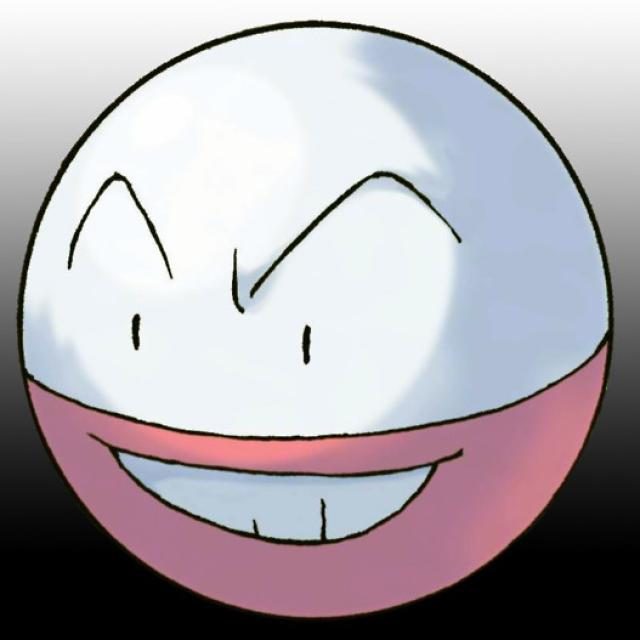Electrode: (13, 13, 620, 621)
